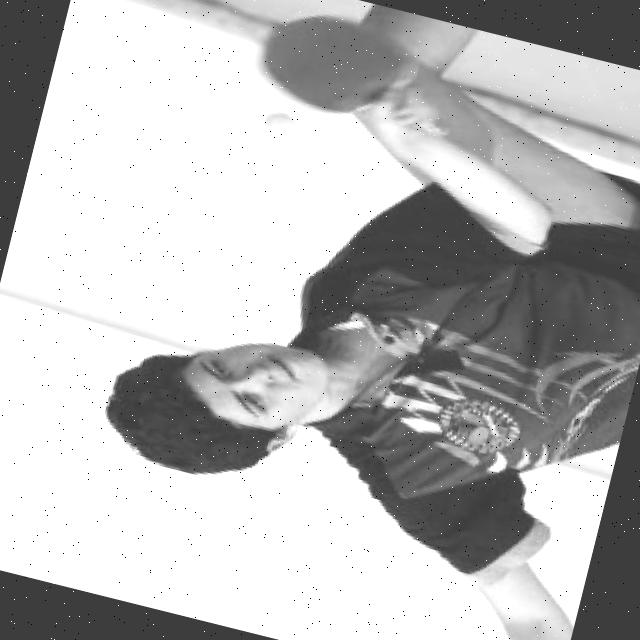ping-pong-ball: (258, 108, 304, 146)
